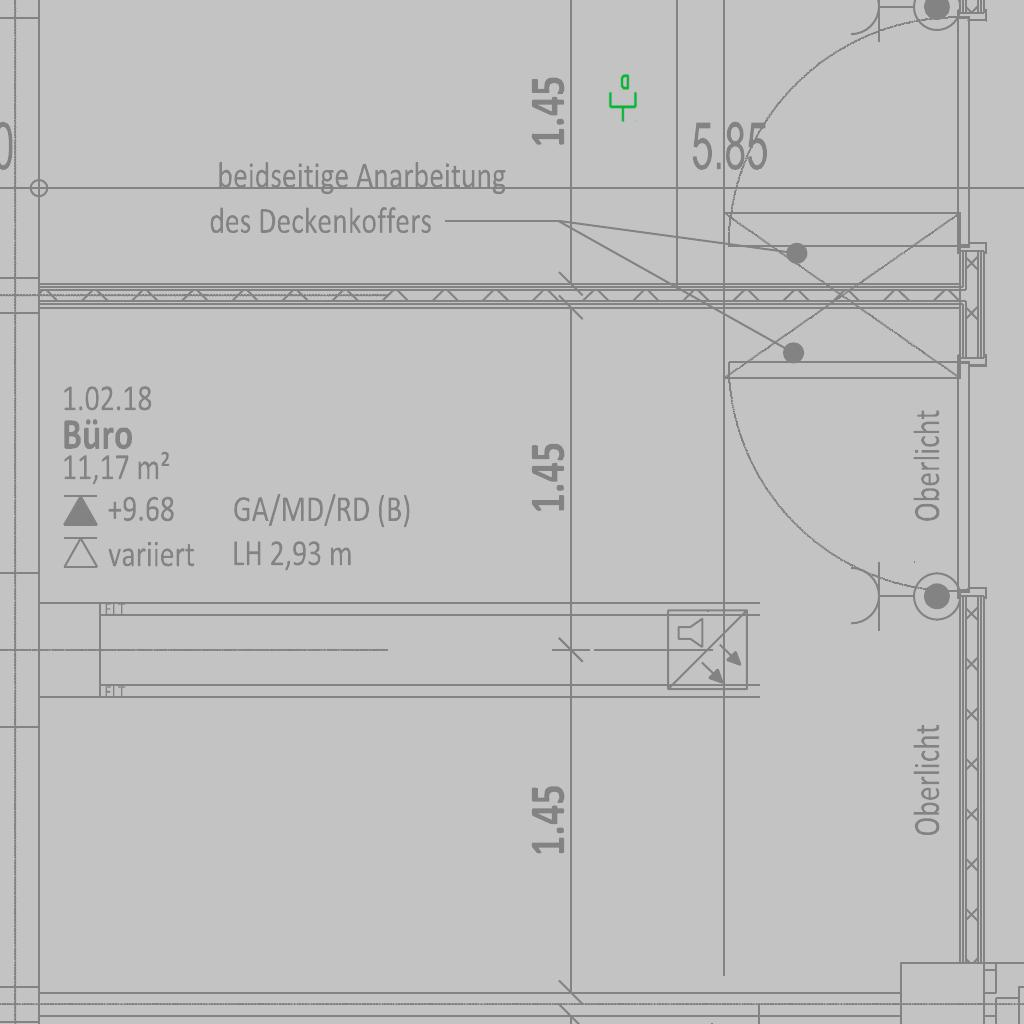Datenanschluss_einfach: (605, 73, 639, 123)
